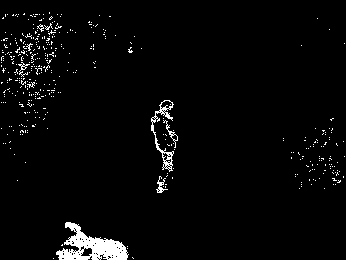person: (150, 99, 178, 197)
